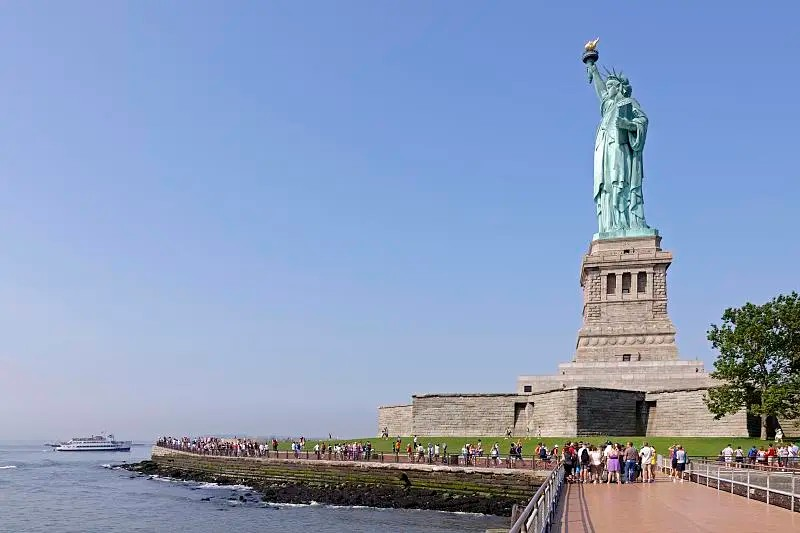SL: (572, 35, 679, 362)
